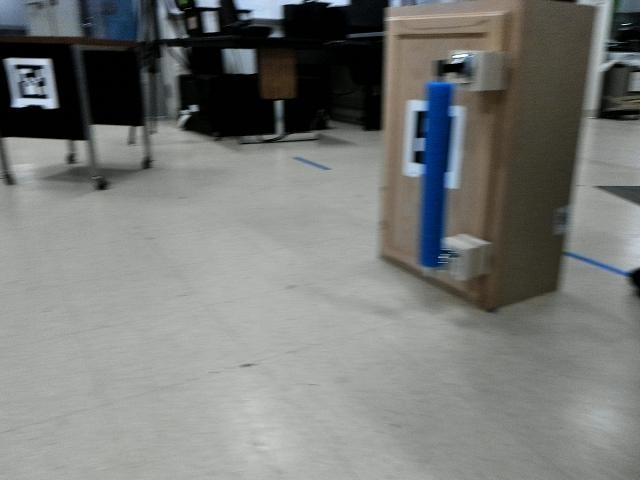noodle_handle: (410, 68, 455, 278)
